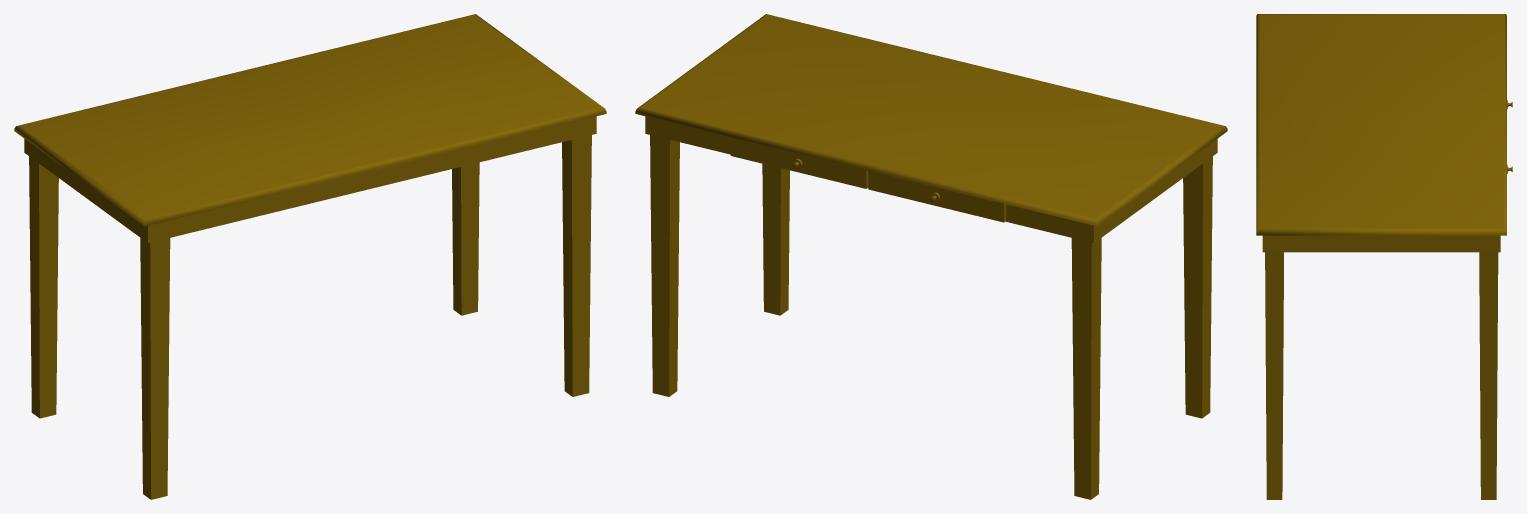
Rendered from SM_Desk_Small.fbx.
3 renders of one model, left to right at view 1: azimuth 30°, elevation 25°; view 2: azimuth 150°, elevation 25°; view 3: azimuth 270°, elevation 25°, orthographic. The views are drawn at different scales.
Parts seen in each view (by area): view 1: SM_Desk_Small; view 2: SM_Desk_Small, SM_Desk_Small_Drawer_01, SM_Desk_Small_Drawer_02; view 3: SM_Desk_Small.
Part boxes in pixels (x1=…): SM_Desk_Small: x1=14, y1=14, x2=606, y2=499; SM_Desk_Small: x1=635, y1=14, x2=1227, y2=499; SM_Desk_Small_Drawer_01: x1=868, y1=171, x2=1006, y2=222; SM_Desk_Small_Drawer_02: x1=730, y1=137, x2=868, y2=188; SM_Desk_Small: x1=1256, y1=14, x2=1506, y2=499.
Size of the model in its own units: 164 by 97.06 by 81.8.
